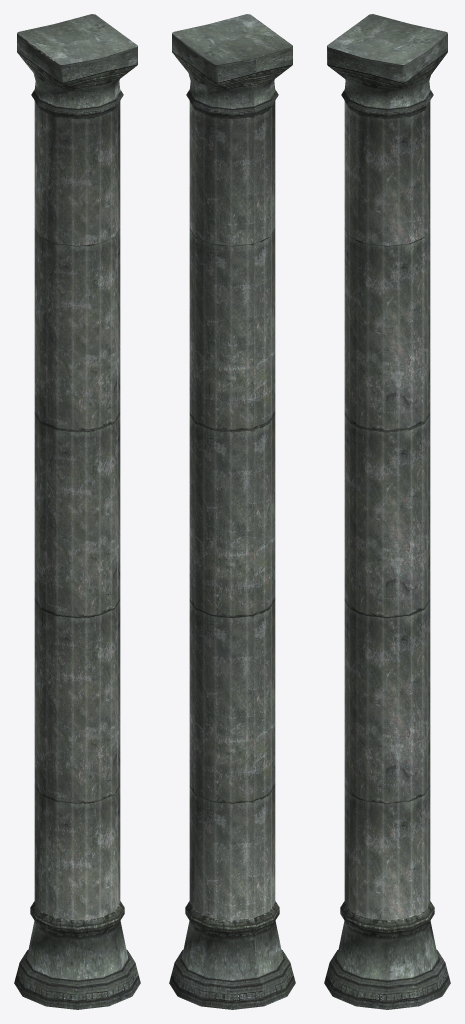
File: Columnssmall.fbx
3 views of the same model, side by side, from view 1: azimuth 30°, elevation 25°; view 2: azimuth 210°, elevation 25°; view 3: azimuth 330°, elevation 25° (orthographic).
Parts seen in each view (by area): view 1: Mesh Object; view 2: Mesh Object; view 3: Mesh Object.
Part boxes in pixels (left/top/right/bottom): Mesh Object: left=14, top=14, right=140, bottom=1009; Mesh Object: left=169, top=14, right=295, bottom=1009; Mesh Object: left=324, top=14, right=450, bottom=1009.
Bounding box in the file's own units: 0.7422 × 6.1 × 0.7411.
